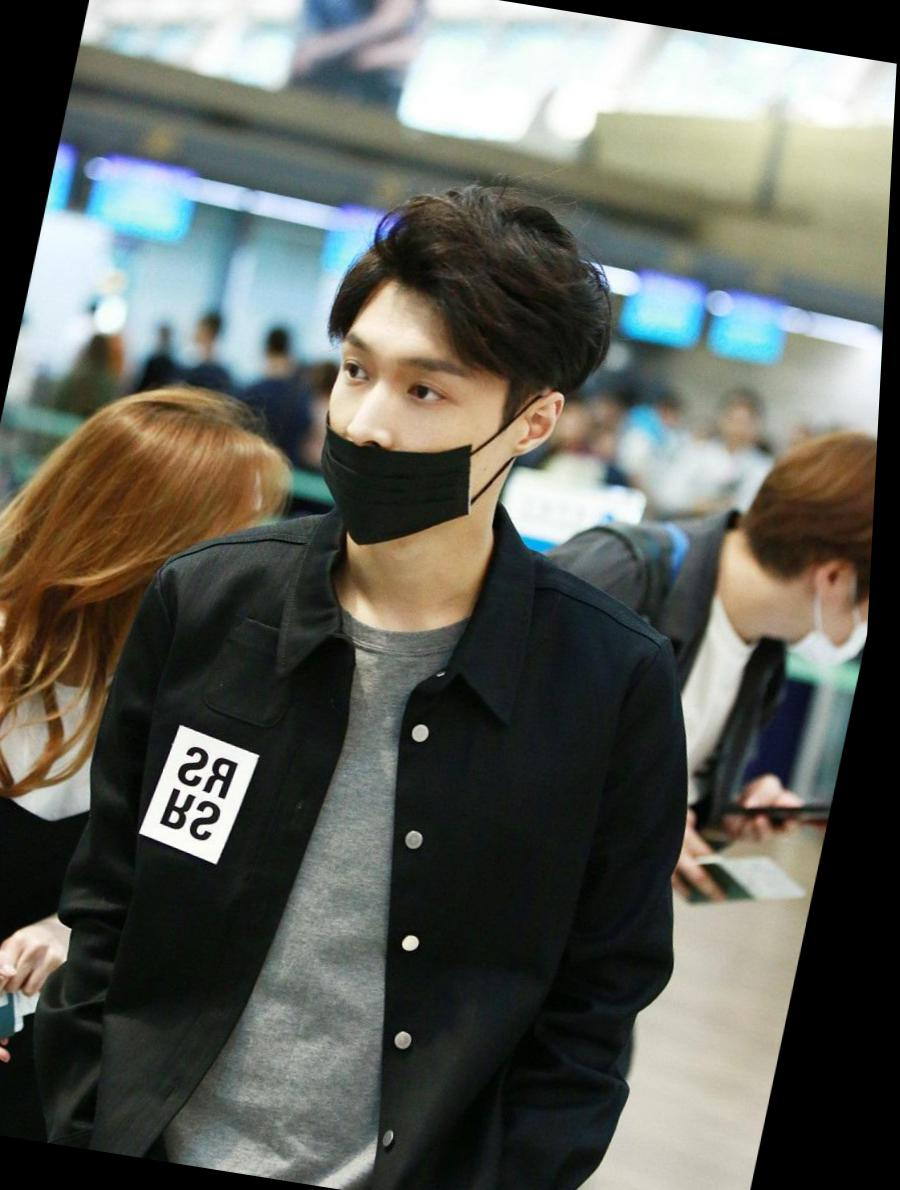WRONG: (290, 317, 545, 562)
